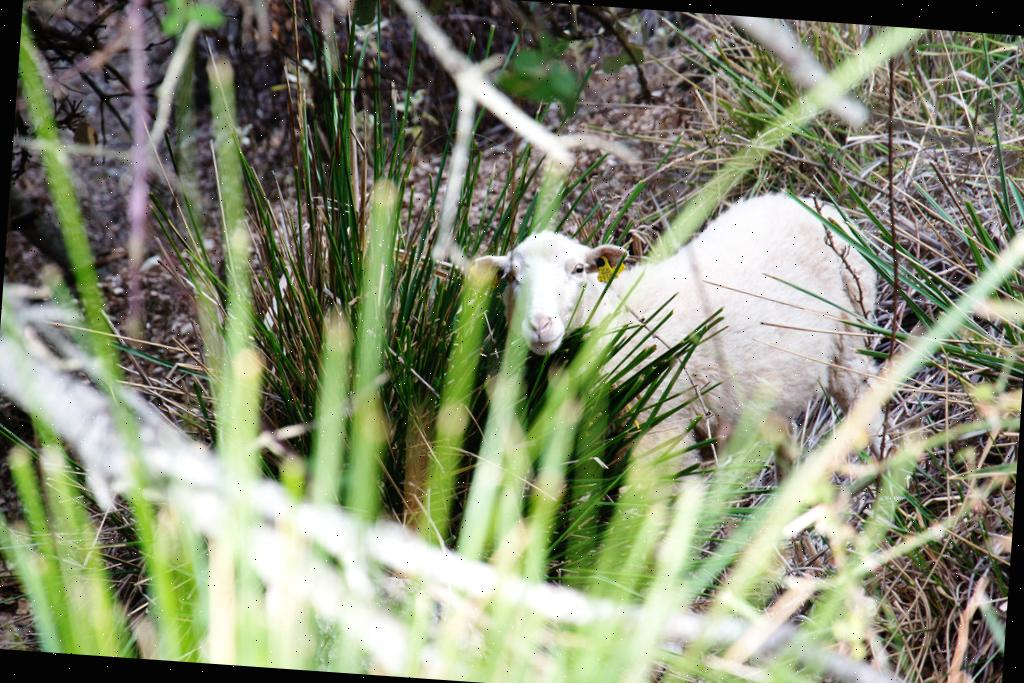Sheep: (444, 160, 922, 496)
